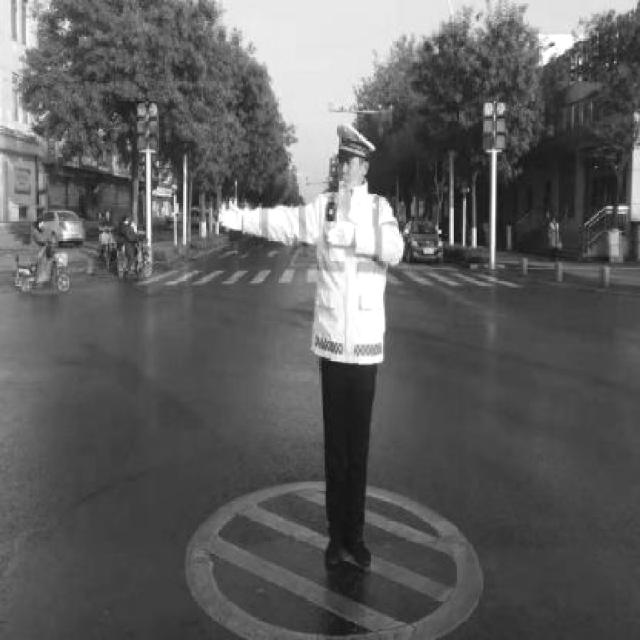face_nomask: (337, 155, 365, 188)
hand_glove: (324, 220, 354, 248), (219, 202, 246, 229)
person: (212, 129, 408, 606)
vest: (312, 190, 391, 362)
